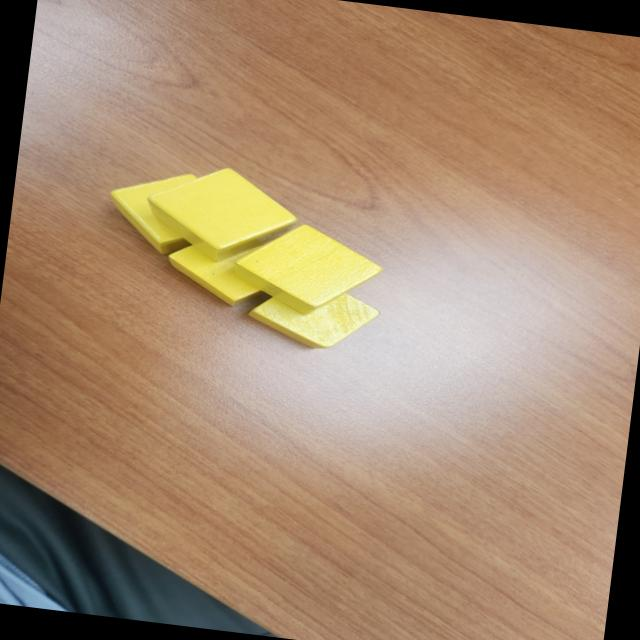yellow: (139, 158, 308, 272), (226, 213, 390, 325), (99, 162, 239, 262), (160, 230, 298, 314), (240, 278, 382, 356)
